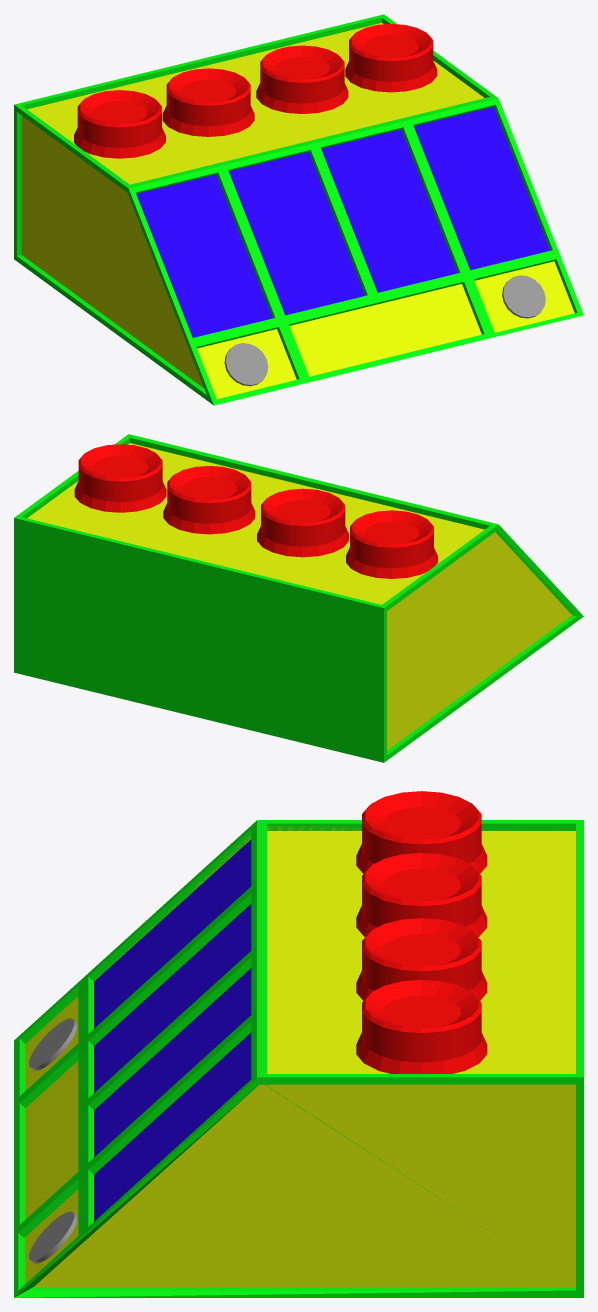
File: ObjectBase.FBX
3 views of the same model, one above another, from view 1: azimuth 30°, elevation 25°; view 2: azimuth 150°, elevation 25°; view 3: azimuth 270°, elevation 25° (orthographic). The views are drawn at different scales.
Parts seen in each view (by area): view 1: Base, Column (4), Column (2), Column (3), Column (1); view 2: Base, Column (4), Column (3), Column (2), Column (1); view 3: Base, Column (4), Column (2), Column (1), Column (3).
Boxes of the visible parts, x1,y1,x2,y2 form: Base: [14, 14, 583, 405]; Column (4): [345, 24, 437, 92]; Column (2): [162, 68, 254, 136]; Column (3): [256, 45, 348, 113]; Column (1): [74, 90, 165, 158]; Base: [14, 434, 583, 762]; Column (4): [74, 444, 166, 512]; Column (3): [163, 466, 255, 534]; Column (2): [257, 488, 348, 557]; Column (1): [346, 510, 437, 578]; Base: [14, 820, 583, 1297]; Column (4): [356, 980, 487, 1073]; Column (2): [356, 853, 487, 936]; Column (1): [356, 791, 487, 873]; Column (3): [356, 918, 487, 1000].
Bounding box in the file's own units: 75 × 35.41 × 70.21.
